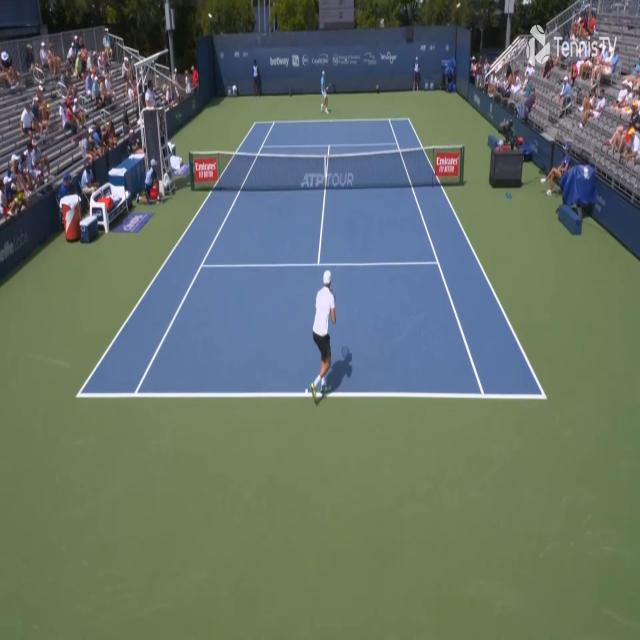tennis-player: (305, 266, 354, 410), (319, 68, 335, 115)
